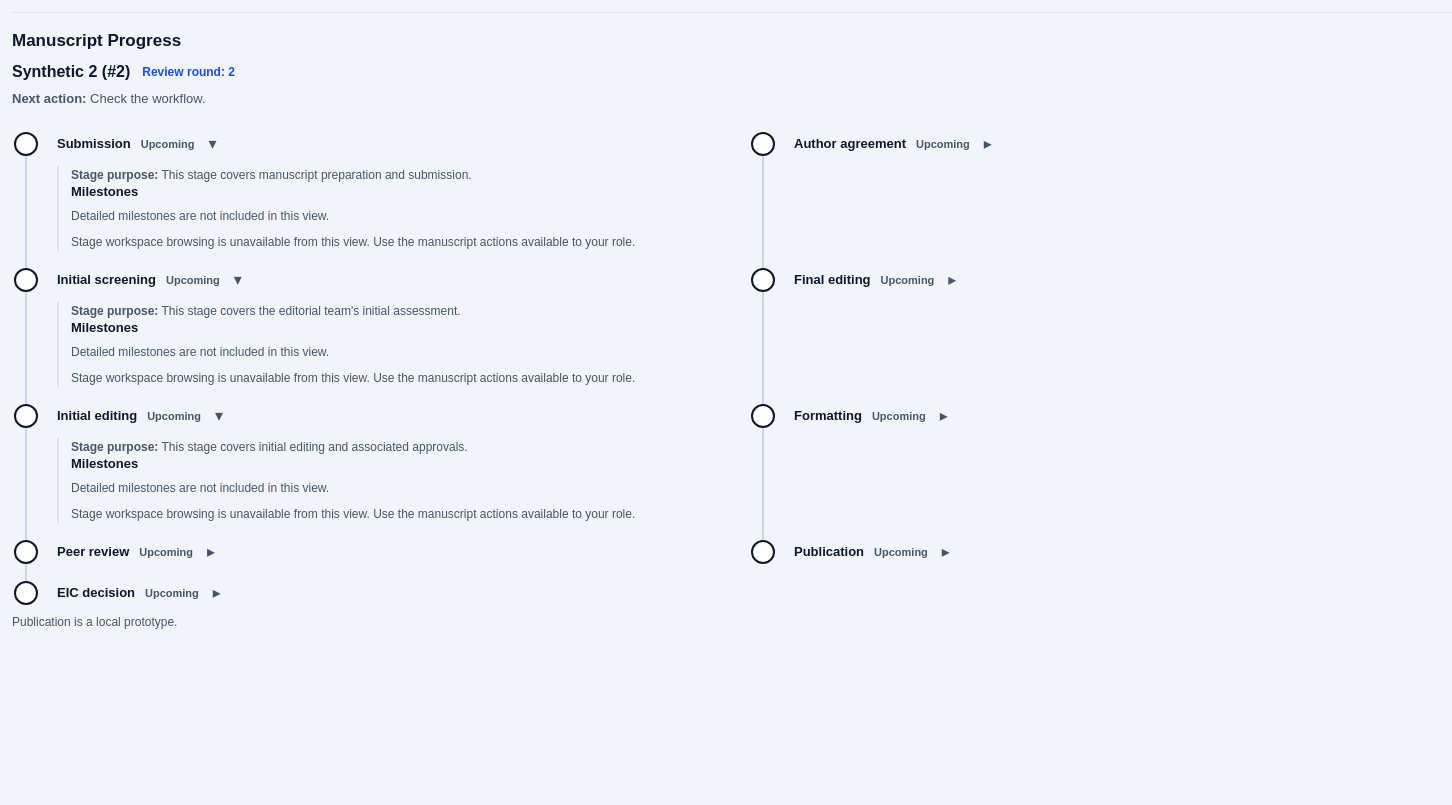
it: labels neutral stage purposes separately from pending milestone status
This screenshot has width=1452, height=805.
Earlier steps of the test are not shown.
Expected: the 3rd heading "Milestones" is shown, [71, 456, 138, 471]
Expected: the 3rd text "Detailed milestones are not included in this view." is shown, [71, 481, 329, 495]
Click the heading "Peer review Upcoming". click: (125, 552)
box: [57, 544, 193, 559]
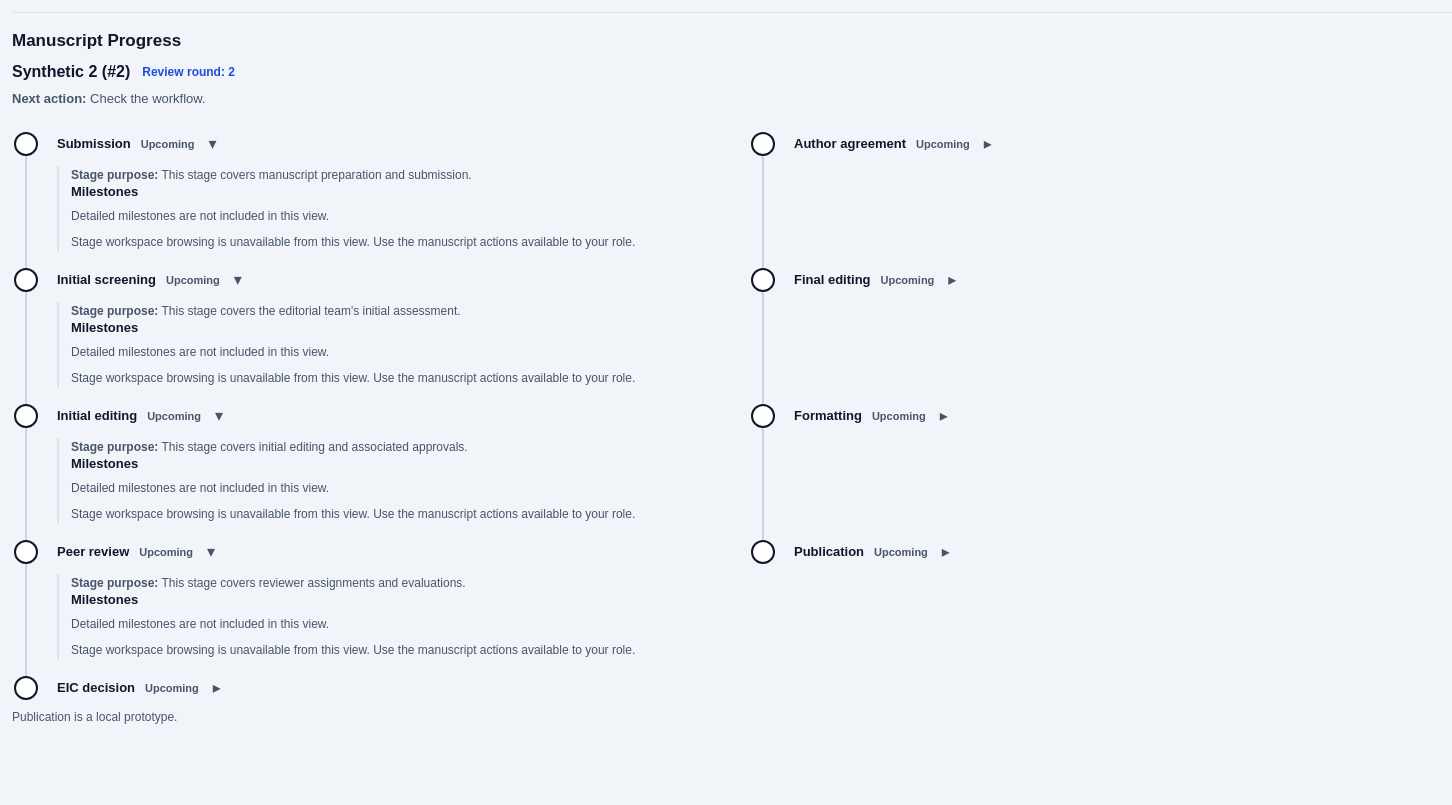
Expected: the text "Upcoming" next to "Peer review" is shown, [139, 546, 193, 558]
Expected: the heading "Milestones" below "Peer review" is shown, [71, 592, 138, 607]
Expected: the text "Detailed milestones are not included in this view." below "Peer review" is shown, [71, 617, 329, 631]
Click the heading "EIC decision Upcoming". click: (128, 688)
box: [57, 680, 199, 695]
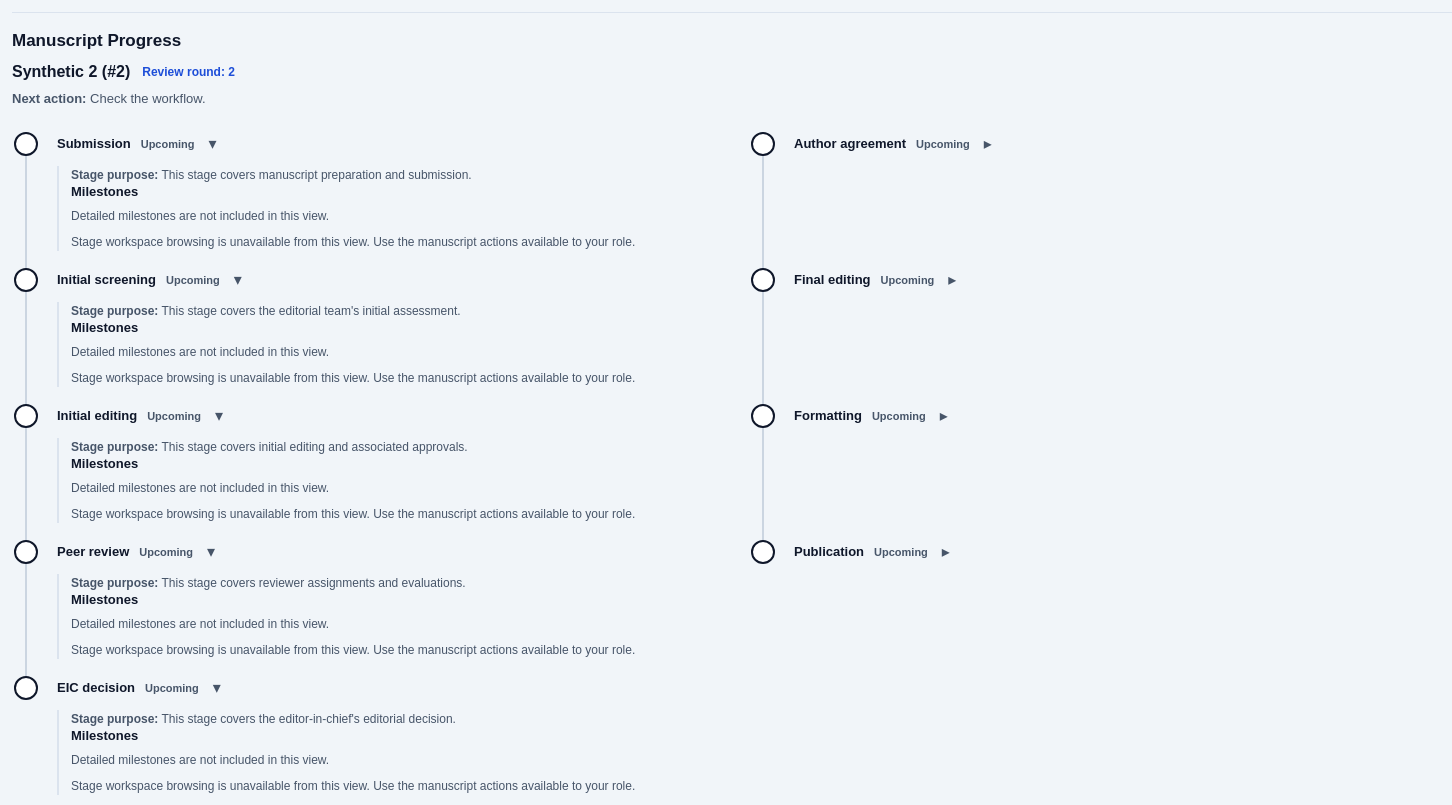
Expected: the text "Upcoming" next to "EIC decision" is shown, [145, 682, 199, 694]
Expected: the heading "Milestones" below "EIC decision" is shown, [71, 728, 138, 743]
Expected: the text "Detailed milestones are not included in this view." below "EIC decision" is shown, [71, 753, 329, 767]
Click the heading "Author agreement Upcoming". click: (882, 144)
box: [794, 136, 970, 151]
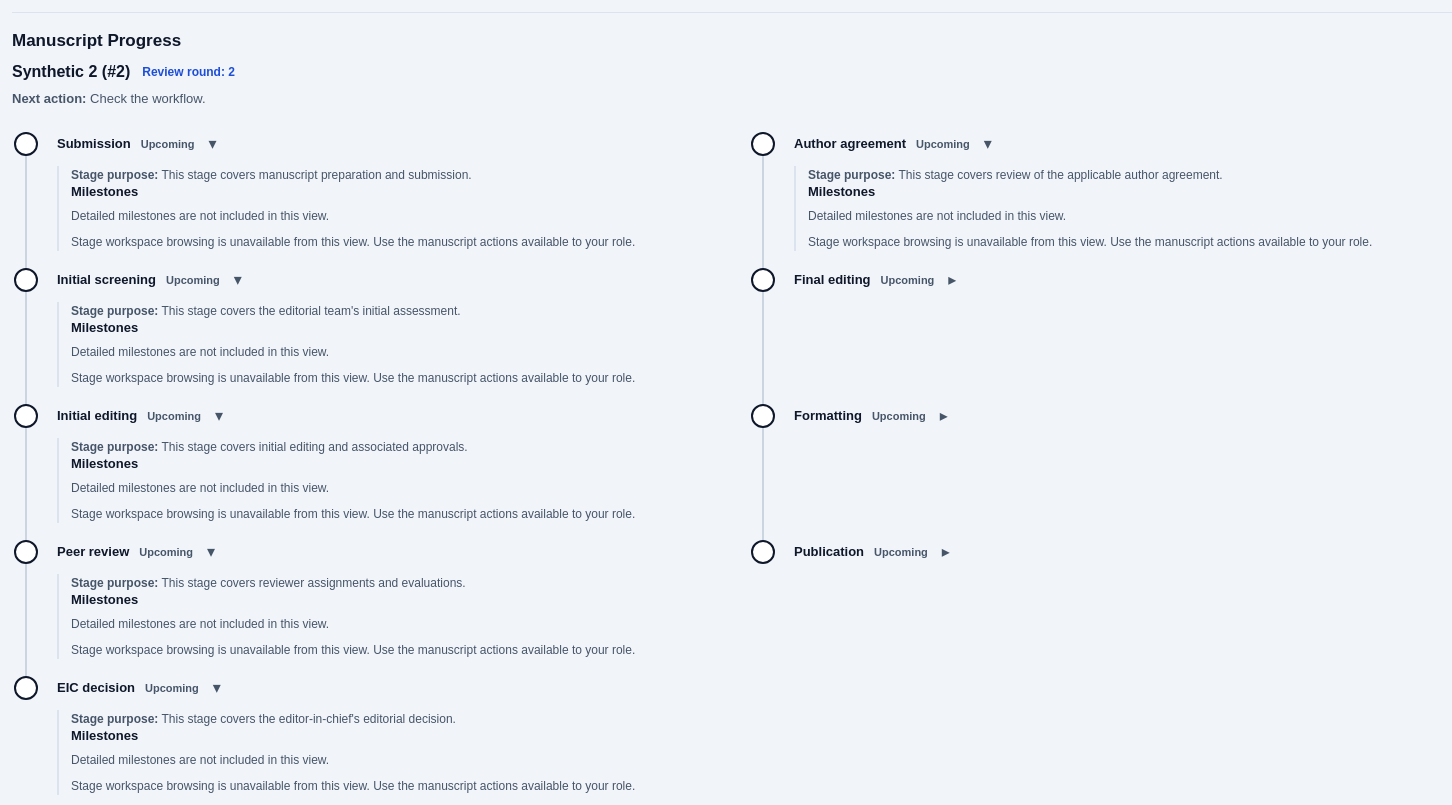
Expected: the 2nd text "Upcoming" is shown, [916, 138, 970, 150]
Expected: the 2nd heading "Milestones" is shown, [808, 184, 875, 199]
Expected: the 2nd text "Detailed milestones are not included in this view." is shown, [808, 209, 1066, 223]
Click the heading "Final editing Upcoming". click: (864, 280)
box: [794, 272, 934, 287]
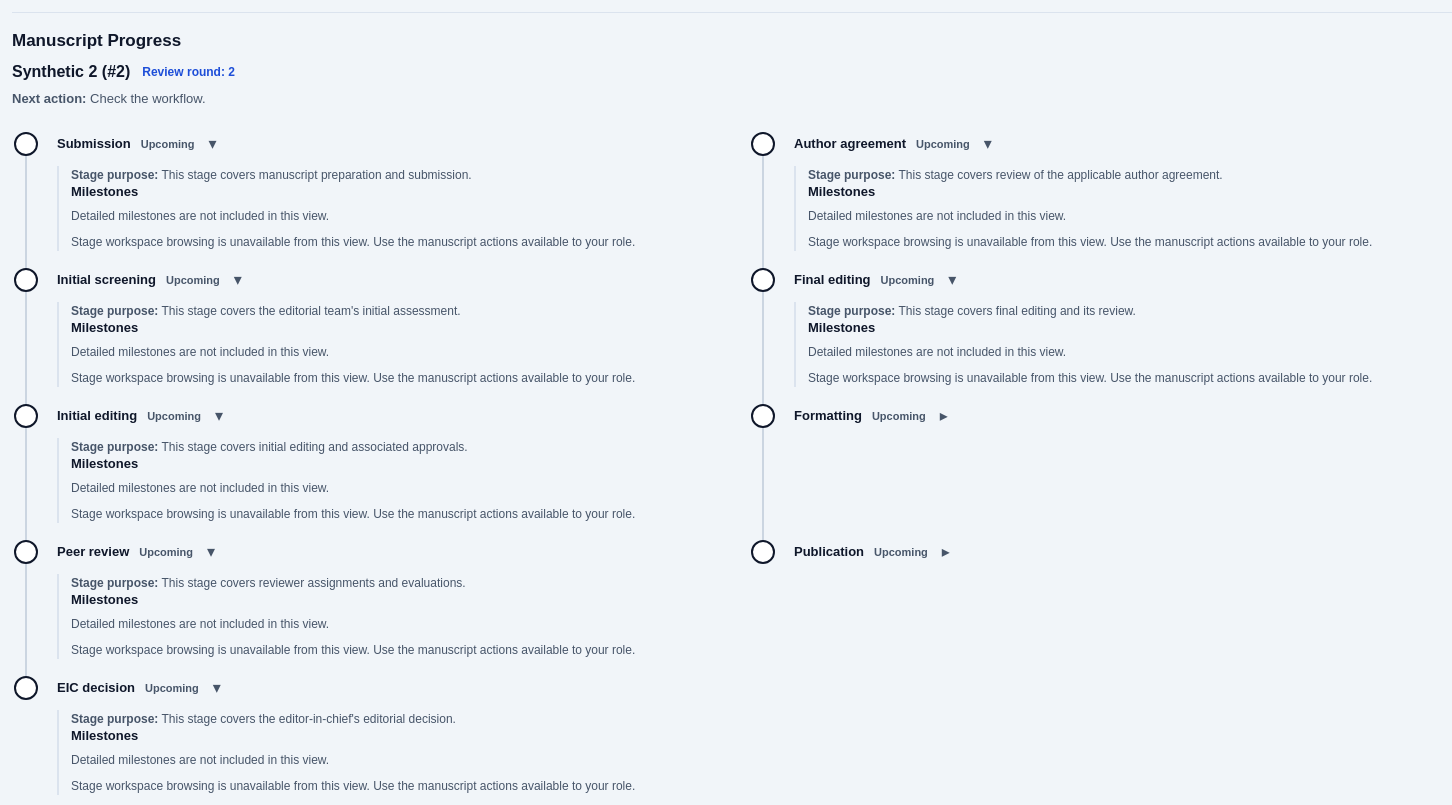
Expected: the 4th text "Upcoming" is shown, [881, 274, 934, 286]
Expected: the 4th heading "Milestones" is shown, [808, 320, 875, 335]
Expected: the 4th text "Detailed milestones are not included in this view." is shown, [808, 345, 1066, 359]
Click the heading "Formatting Upcoming". click: (860, 416)
box: [794, 408, 926, 423]
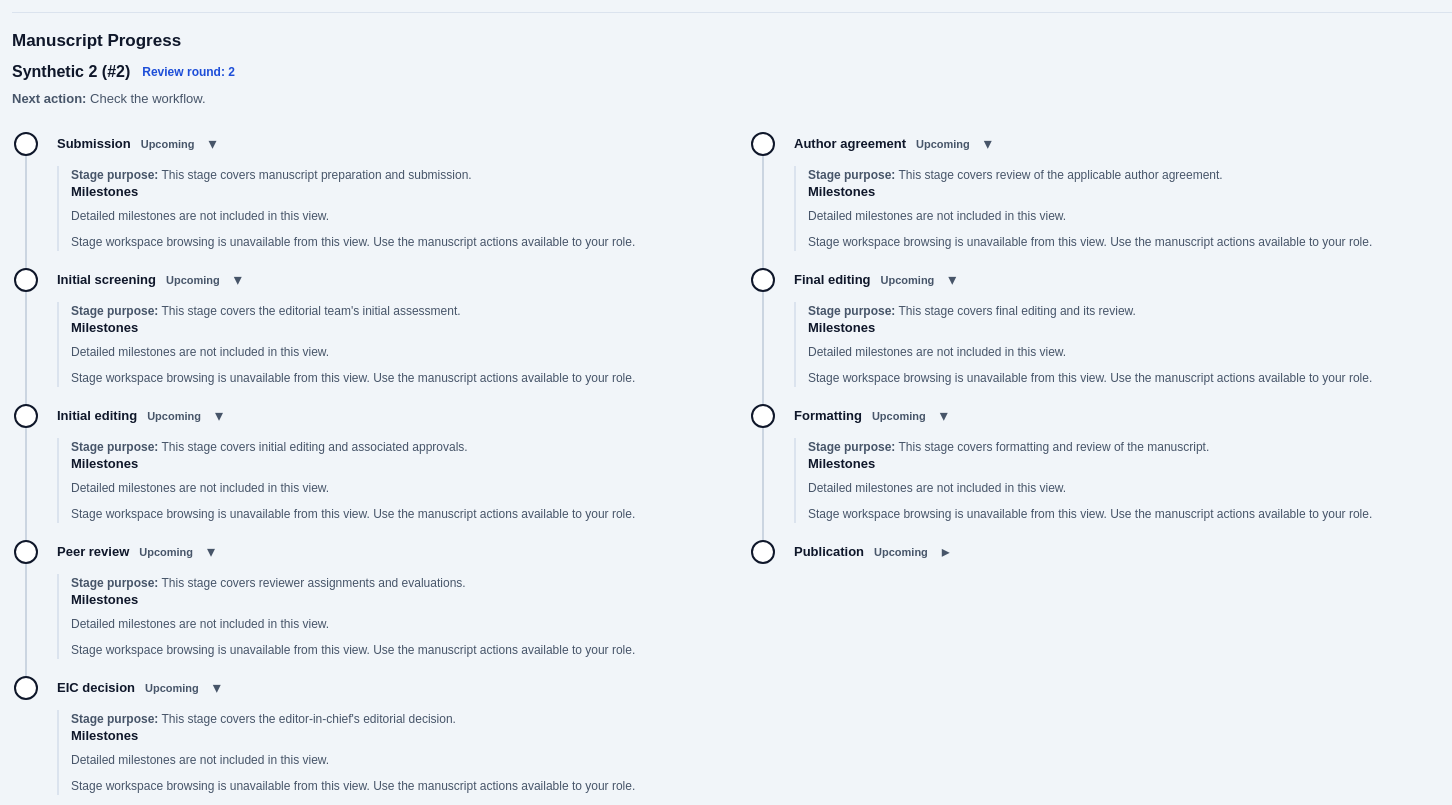
Expected: the 6th text "Upcoming" is shown, [872, 410, 926, 422]
Expected: the 6th heading "Milestones" is shown, [808, 456, 875, 471]
Expected: the 6th text "Detailed milestones are not included in this view." is shown, [808, 481, 1066, 495]
Click the heading "Publication Upcoming". click: (861, 552)
box: [794, 544, 928, 559]
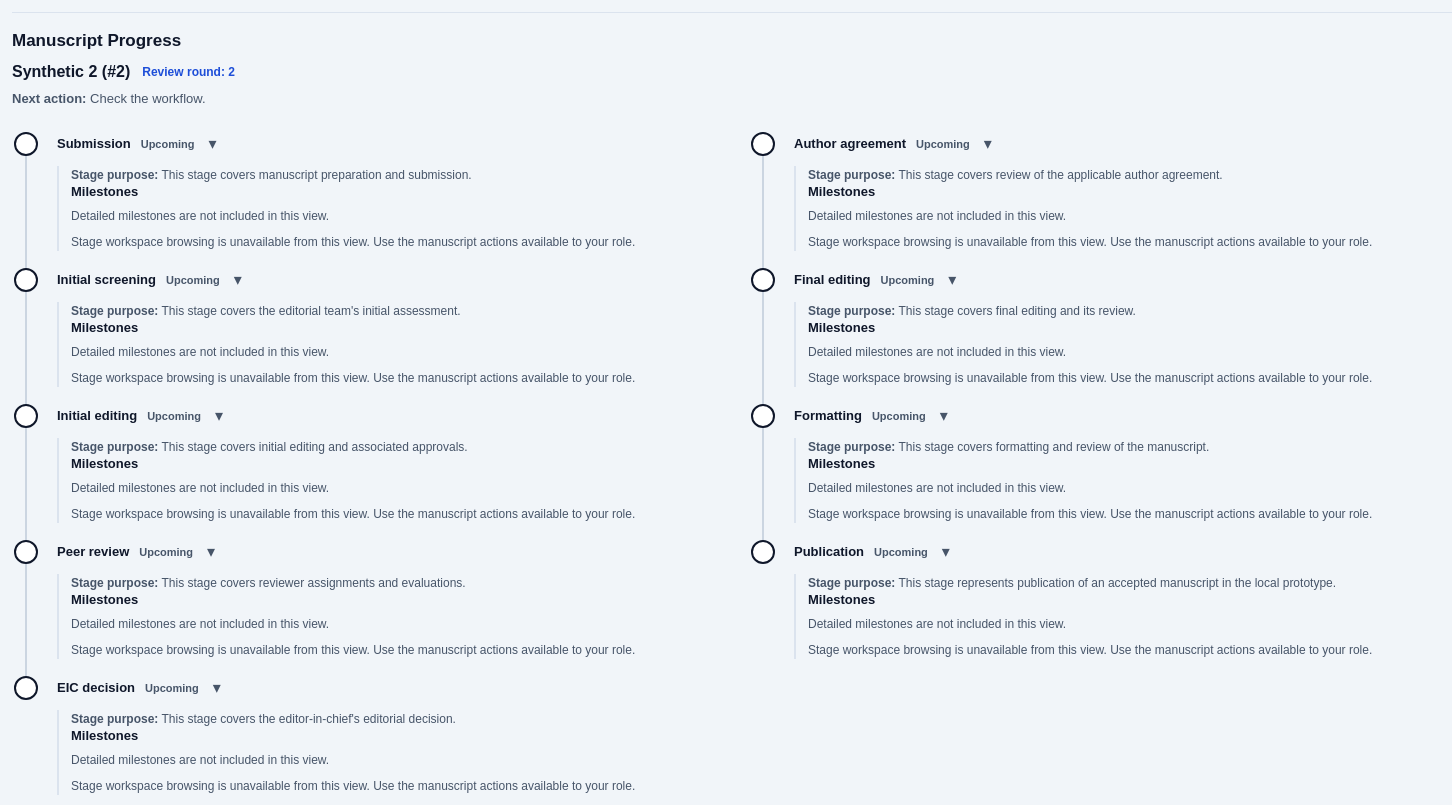
Expected: the 8th text "Upcoming" is shown, [874, 546, 928, 558]
Expected: the 8th heading "Milestones" is shown, [808, 592, 875, 607]
Expected: the 8th text "Detailed milestones are not included in this view." is shown, [808, 617, 1066, 631]
